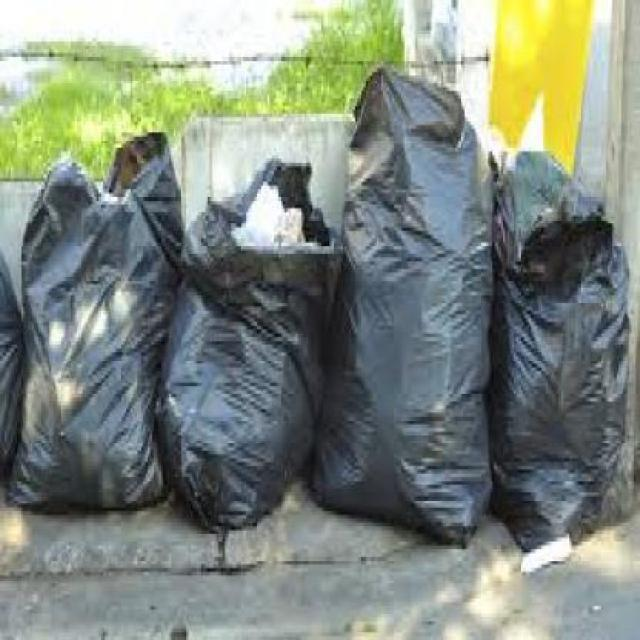garbage: (0, 137, 638, 527)
